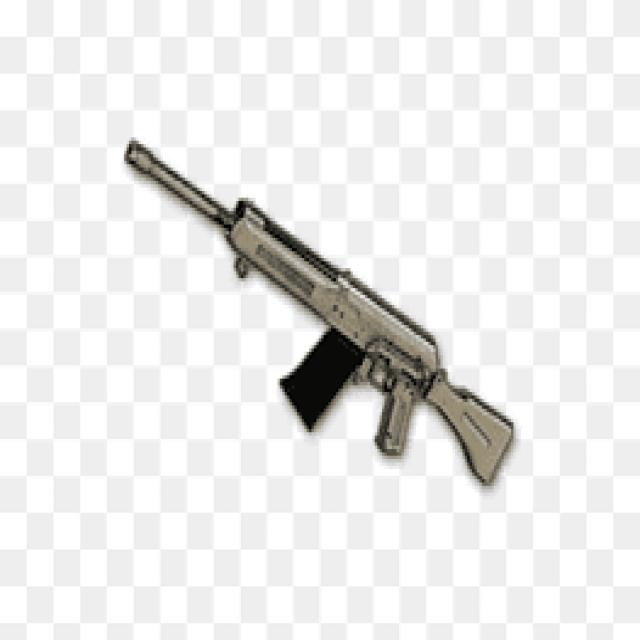firearm: (124, 138, 514, 482)
